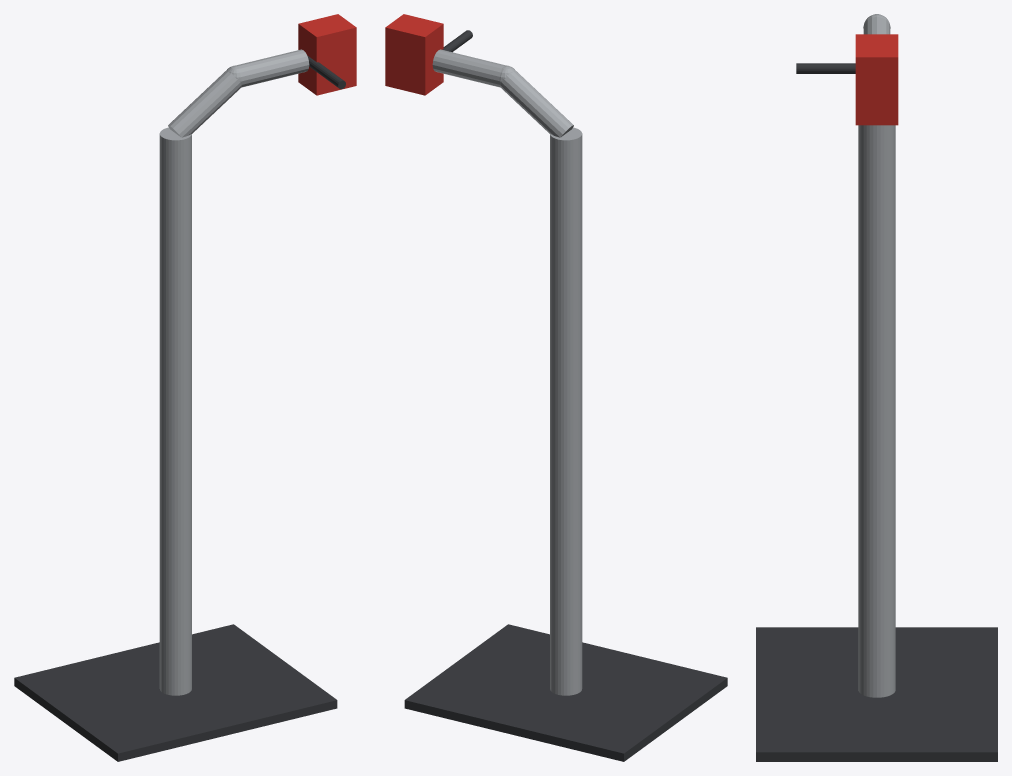
3 renders of one model, left to right at view 1: azimuth 30°, elevation 25°; view 2: azimuth 150°, elevation 25°; view 3: azimuth 270°, elevation 25°, orthographic. The views are drawn at different scales.
Parts seen in each view (by area): view 1: baseOffset=0;depth=0.5;height=1.5;material=steel_galv;power= (×3); view 2: baseOffset=0;depth=0.5;height=1.5;material=steel_galv;power= (×3); view 3: baseOffset=0;depth=0.5;height=1.5;material=steel_galv;power= (×3).
Boxes of the visible parts, <box> form: baseOffset=0;depth=0.5;height=1.5;material=steel_galv;power= (×3): <box>14,14,356,761</box>; baseOffset=0;depth=0.5;height=1.5;material=steel_galv;power= (×3): <box>385,14,727,761</box>; baseOffset=0;depth=0.5;height=1.5;material=steel_galv;power= (×3): <box>756,14,997,761</box>.
Size of the model in its own units: 0.705 by 0.45 by 1.52.
